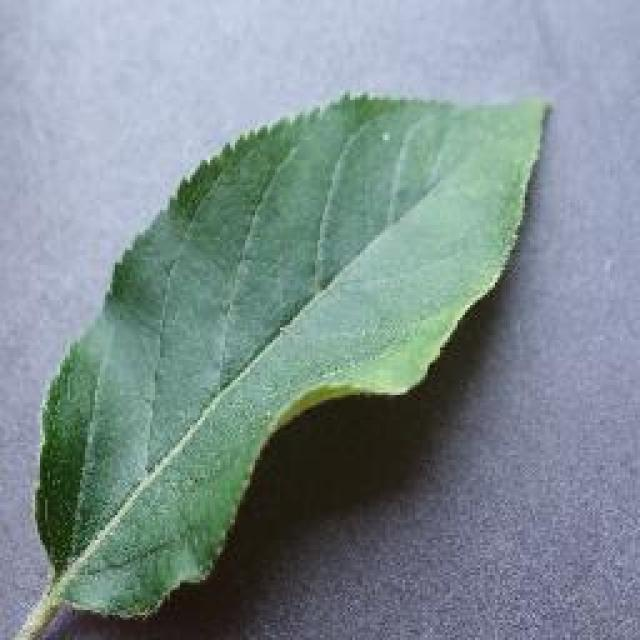apple healthy: (15, 85, 555, 635)
